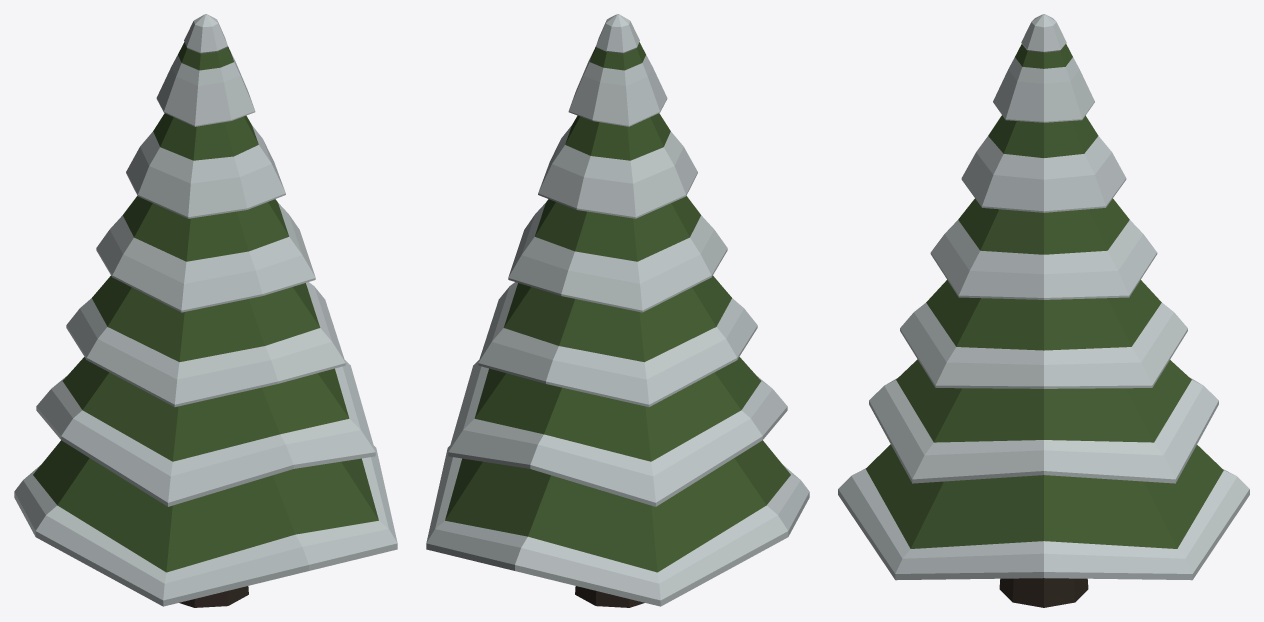
The model's file is pineTree_snow.fbx.
The picture shows the model from 3 angles, left to right: view 1: azimuth 30°, elevation 25°; view 2: azimuth 150°, elevation 25°; view 3: azimuth 270°, elevation 25°; orthographic projection.
Visible parts, largest first — view 1: Snow_PineTree; view 2: Snow_PineTree; view 3: Snow_PineTree.
Boxes of the visible parts, bbox=[...] form: Snow_PineTree: bbox=[14, 14, 397, 607]; Snow_PineTree: bbox=[426, 14, 809, 607]; Snow_PineTree: bbox=[838, 14, 1249, 607].
Size of the model in its own units: 475 by 766 by 497.
